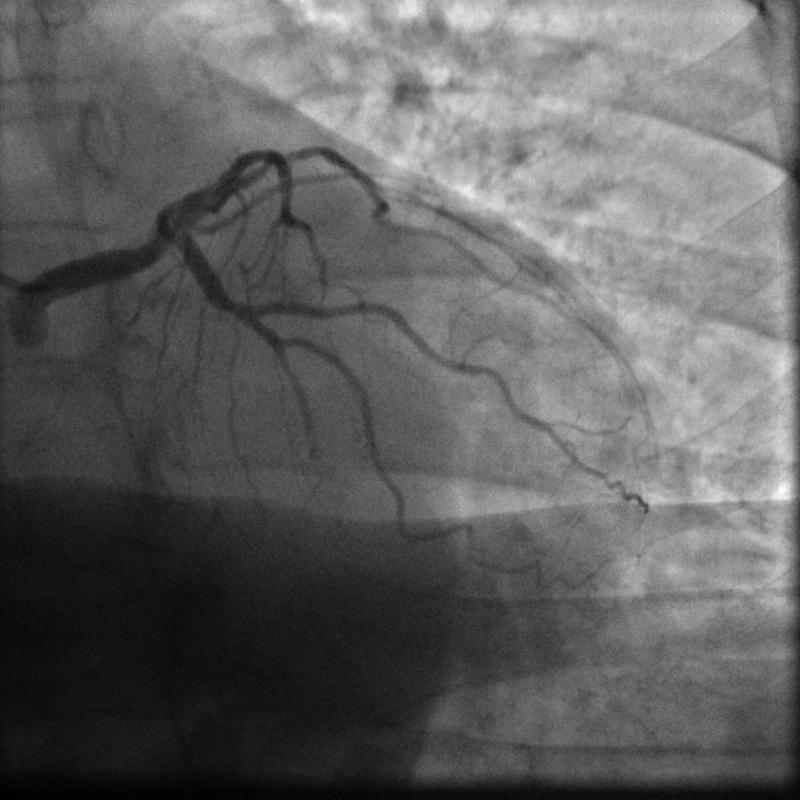Stenosis: (223, 286, 250, 330)
